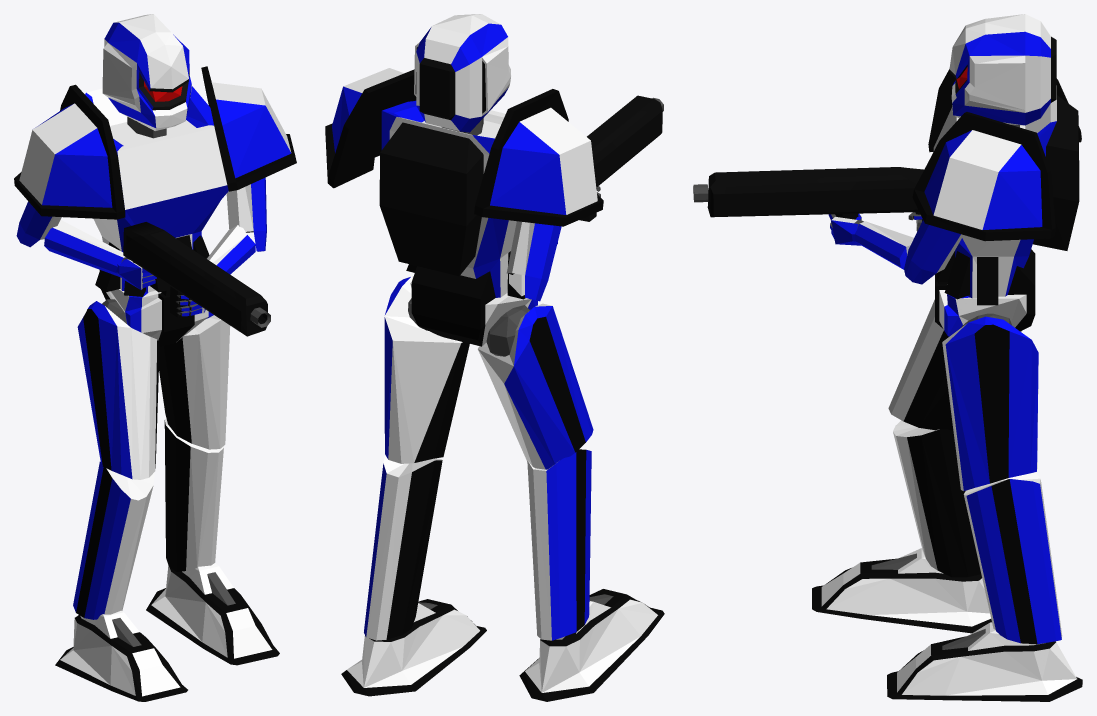
Rendered from robot_animation_000018.obj.
3 renders of one model, left to right at view 1: azimuth 30°, elevation 25°; view 2: azimuth 150°, elevation 25°; view 3: azimuth 270°, elevation 25°, orthographic. The views are drawn at different scales.
Visible parts, largest first — view 1: Chest_plate_Cube.004, R_Thigh_Cube.005, Cube.002_Cube.059, Head_base_Cube.022, R_Shin_Cube.007, R_Foot.002_Cube.035, R_Thigh.002_Cube.027, Cube_Cube.001, R_Shin.002_Cube.029, R_Foot_Cube, Cube_Cube.021, Pelvis_Cube.006 (+5 smaller); view 2: Chest_plate_Cube.004, Cube.002_Cube.059, R_Thigh_Cube.005, R_Thigh.002_Cube.027, R_Shin_Cube.007, R_Shin.002_Cube.029, Head_base_Cube.022, R_Foot_Cube, R_Foot.002_Cube.035, Cube_Cube.021, Pelvis_Cube.006, Cube_Cube.001 (+2 smaller); view 3: Cube_Cube.021, R_Thigh.002_Cube.027, R_Shin.002_Cube.029, R_Foot.002_Cube.035, Head_base_Cube.022, Cube_Cube.001, R_Foot_Cube, Chest_plate_Cube.004, R_Shin_Cube.007, R_Thigh_Cube.005, Pelvis_Cube.006, L_Arm_Cube.014 (+3 smaller).
Part boxes in pixels (<box>): Chest_plate_Cube.004: <box>85,86,228,296</box>; R_Thigh_Cube.005: <box>77,301,159,479</box>; Cube.002_Cube.059: <box>14,84,125,219</box>; Head_base_Cube.022: <box>102,14,191,130</box>; R_Shin_Cube.007: <box>73,461,154,619</box>; R_Foot.002_Cube.035: <box>146,563,279,665</box>; R_Thigh.002_Cube.027: <box>159,315,230,449</box>; Cube_Cube.001: <box>123,222,270,336</box>; R_Shin.002_Cube.029: <box>164,419,223,571</box>; R_Foot_Cube: <box>55,610,187,701</box>; Cube_Cube.021: <box>201,66,296,191</box>; Pelvis_Cube.006: <box>99,270,213,346</box>; Chest_plate_Cube.004: <box>379,100,525,299</box>; Cube.002_Cube.059: <box>474,89,603,226</box>; R_Thigh_Cube.005: <box>478,303,593,469</box>; R_Thigh.002_Cube.027: <box>384,276,469,463</box>; R_Shin_Cube.007: <box>527,449,591,640</box>; R_Shin.002_Cube.029: <box>364,454,442,640</box>; Head_base_Cube.022: <box>414,14,510,132</box>; R_Foot_Cube: <box>519,589,664,701</box>; R_Foot.002_Cube.035: <box>341,599,486,696</box>; Cube_Cube.021: <box>325,68,416,188</box>; Pelvis_Cube.006: <box>410,266,537,346</box>; Cube_Cube.001: <box>579,95,663,221</box>; Cube_Cube.021: <box>912,112,1055,241</box>; R_Thigh.002_Cube.027: <box>942,316,1038,491</box>; R_Shin.002_Cube.029: <box>963,472,1062,644</box>; R_Foot.002_Cube.035: <box>887,622,1082,701</box>; Head_base_Cube.022: <box>949,14,1056,125</box>; Cube_Cube.001: <box>693,167,923,221</box>; R_Foot_Cube: <box>812,548,991,633</box>; Chest_plate_Cube.004: <box>933,85,1079,305</box>; R_Shin_Cube.007: <box>893,420,981,577</box>; R_Thigh_Cube.005: <box>888,299,1021,431</box>; Pelvis_Cube.006: <box>935,249,1035,336</box>; L_Arm_Cube.014: <box>904,220,963,284</box>.
Bounding box in the file's own units: 1.32 × 3.04 × 1.68.
